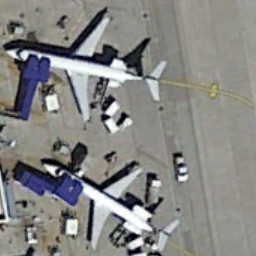Airplane: (2, 5, 173, 132), (29, 142, 185, 256)
